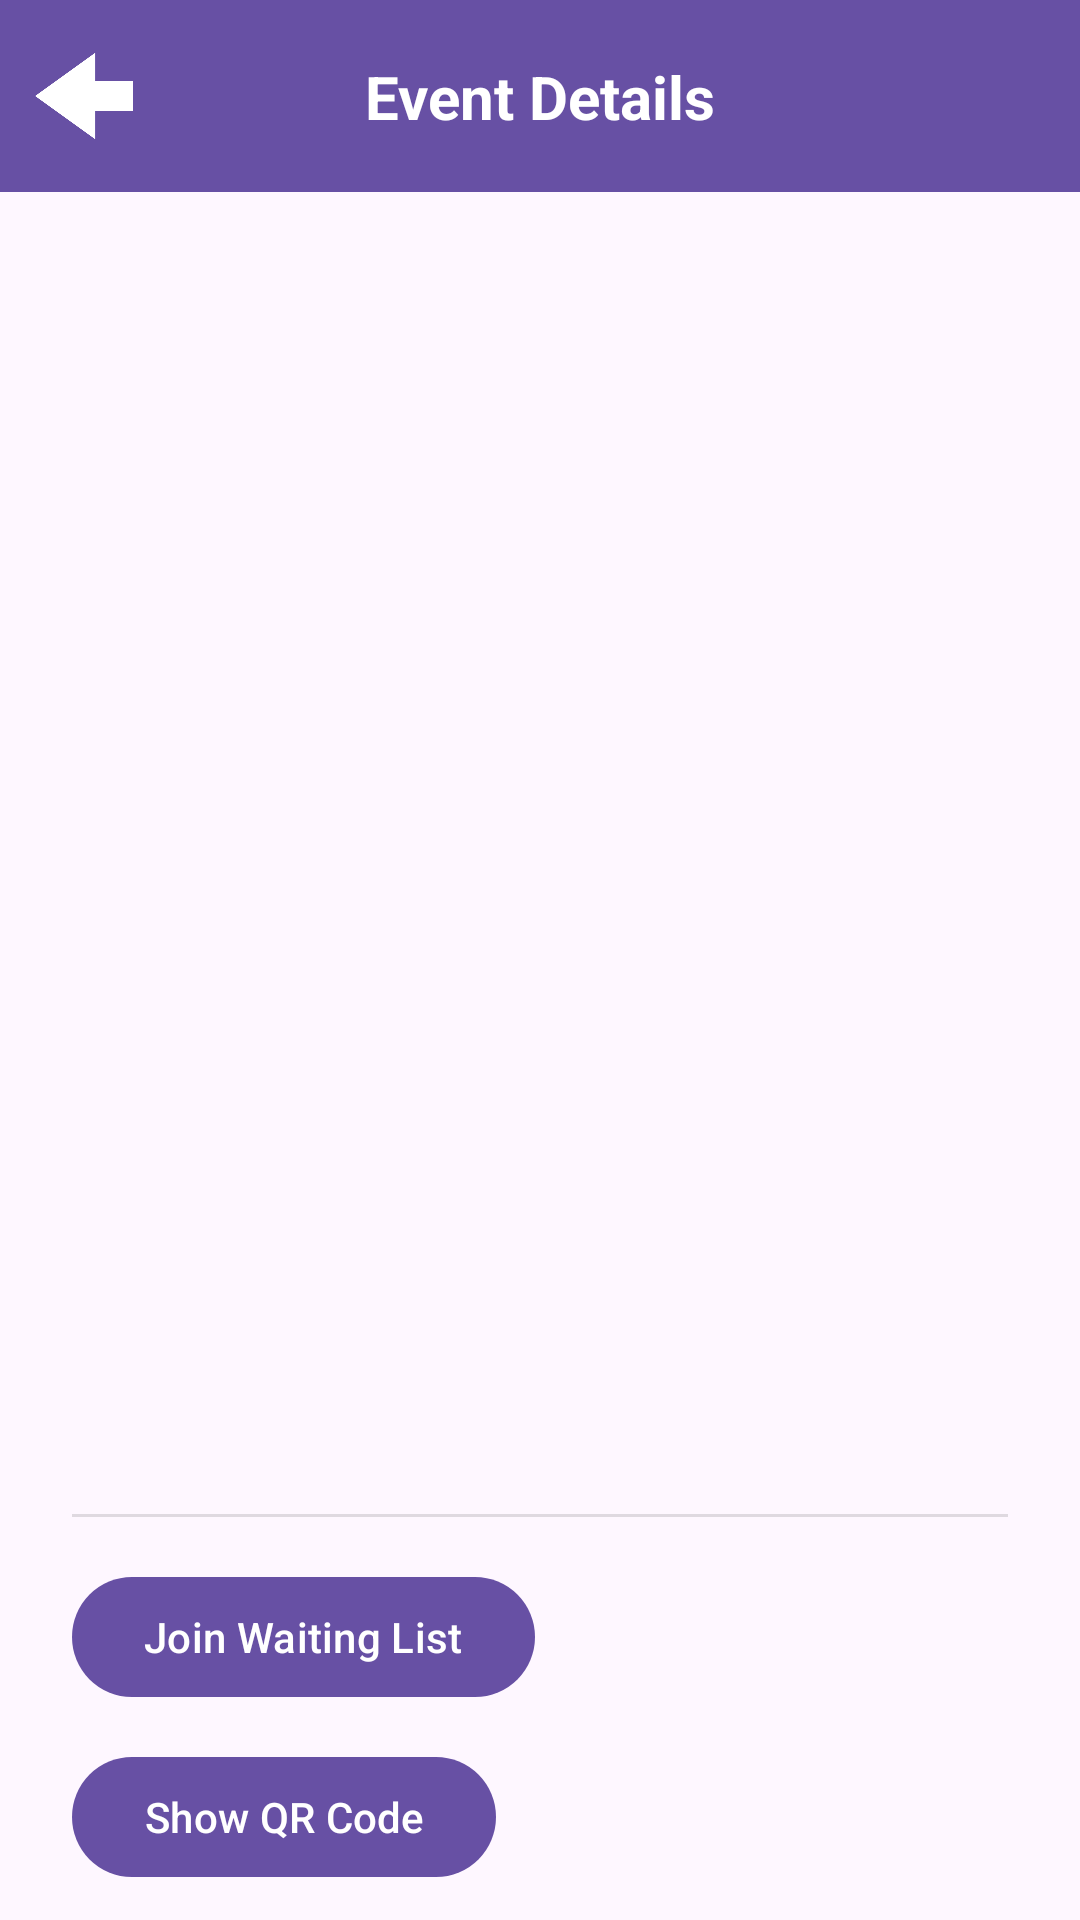

Screen size 1080w x 1920h. Icon name, then its center in pixels as [x,y]:
back: [84,96]
